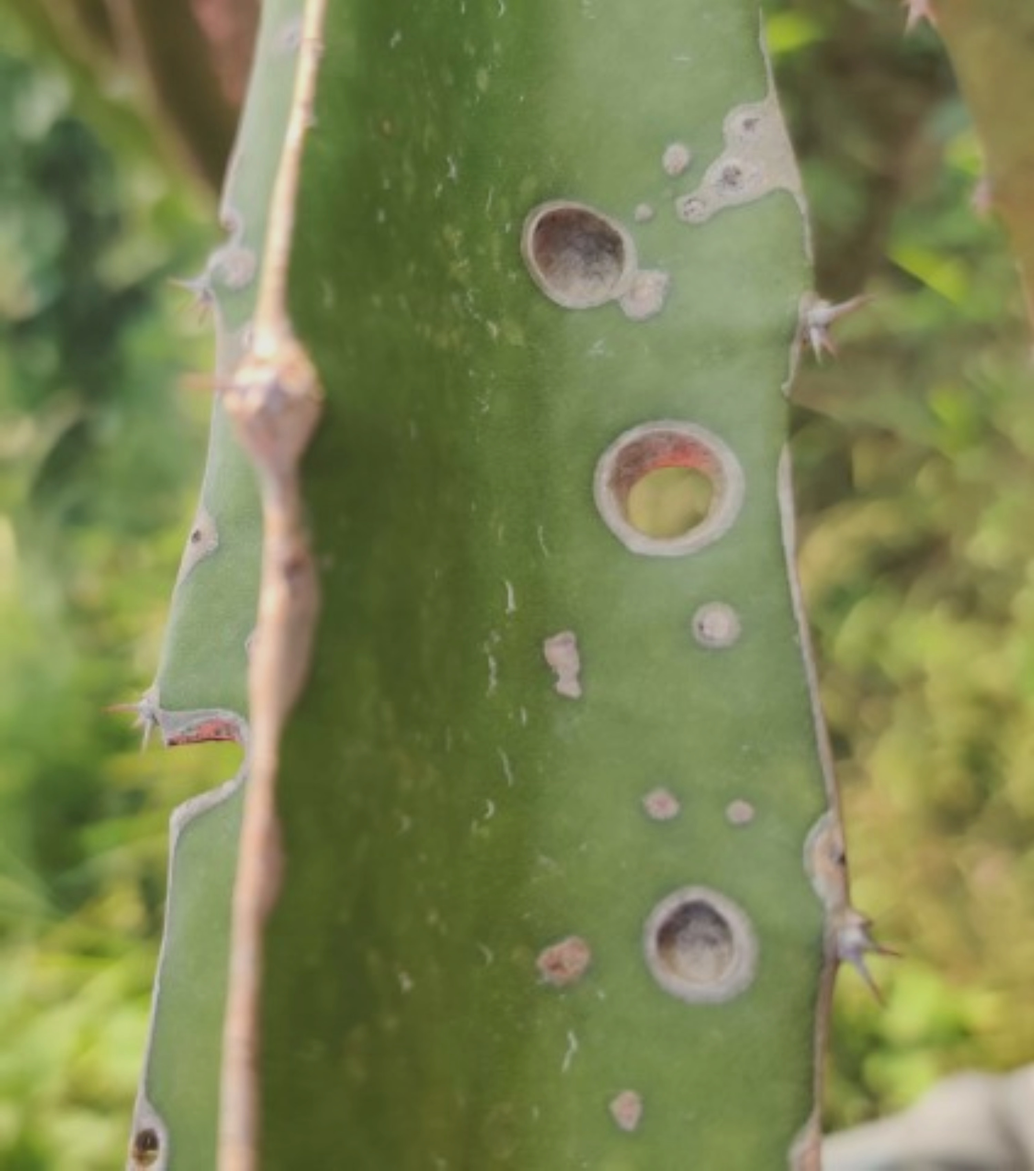stemcanker: (400, 62, 951, 1110)
